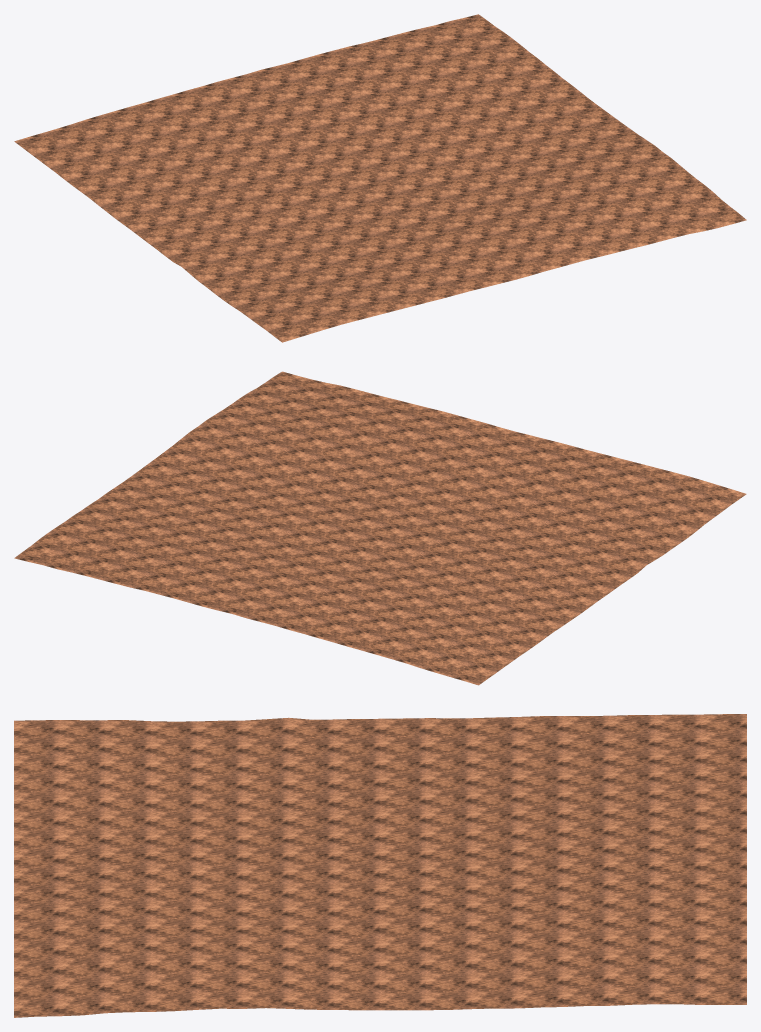
File: terrain_09_21.dae
The picture shows the model from 3 angles, top to bottom: view 1: azimuth 30°, elevation 25°; view 2: azimuth 150°, elevation 25°; view 3: azimuth 270°, elevation 25°; orthographic projection. The views are drawn at different scales.
Visible parts, largest first — view 1: terrain_09_21-node; view 2: terrain_09_21-node; view 3: terrain_09_21-node.
Boxes of the visible parts, left/top/right/bottom form: terrain_09_21-node: left=14, top=14, right=746, bottom=342; terrain_09_21-node: left=14, top=371, right=746, bottom=685; terrain_09_21-node: left=14, top=714, right=746, bottom=1017.
Bounding box in the file's own units: 128 × 128 × 5.23.
Materials: 1 (1 with a texture image).
